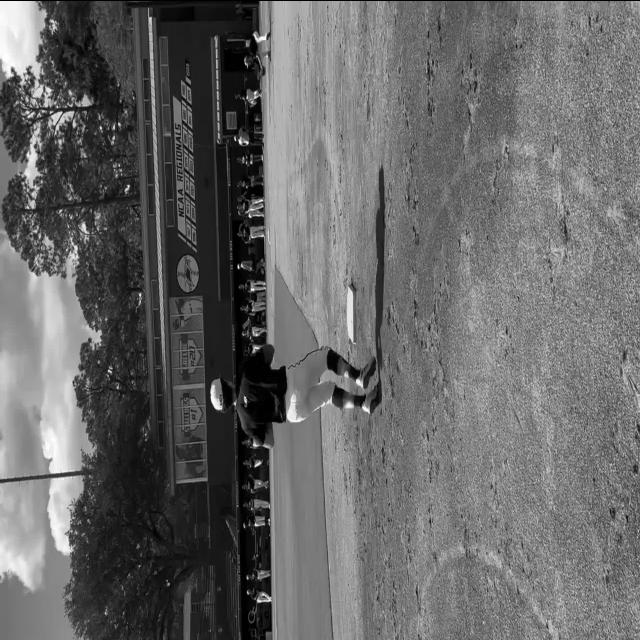base: (346, 282, 356, 342), (268, 227, 271, 244)
shoe: (356, 356, 376, 389), (364, 382, 381, 413)
